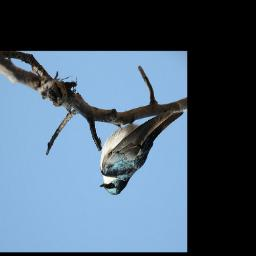Swallow: (99, 108, 184, 196)
